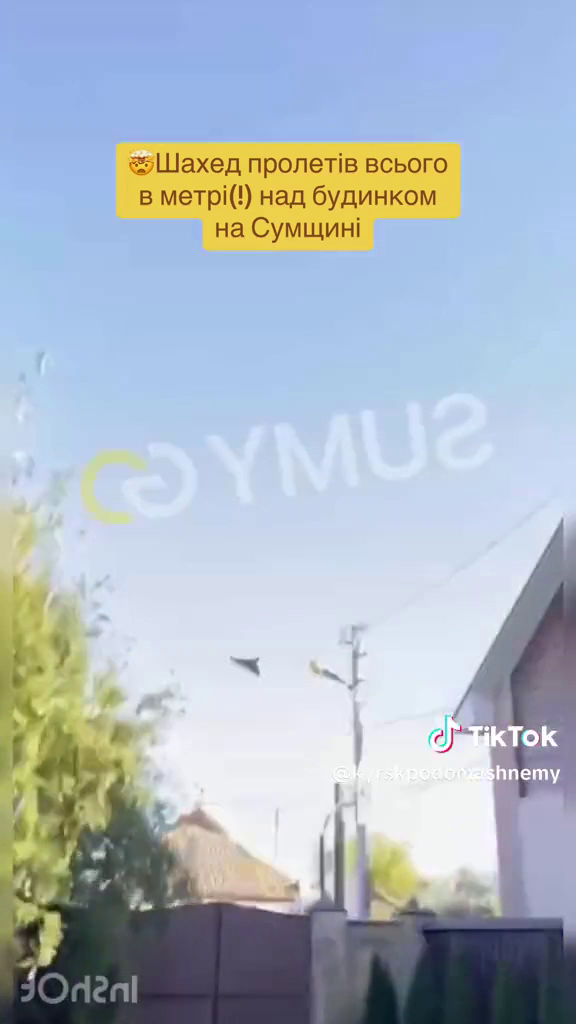shahed: (226, 648, 266, 682)
